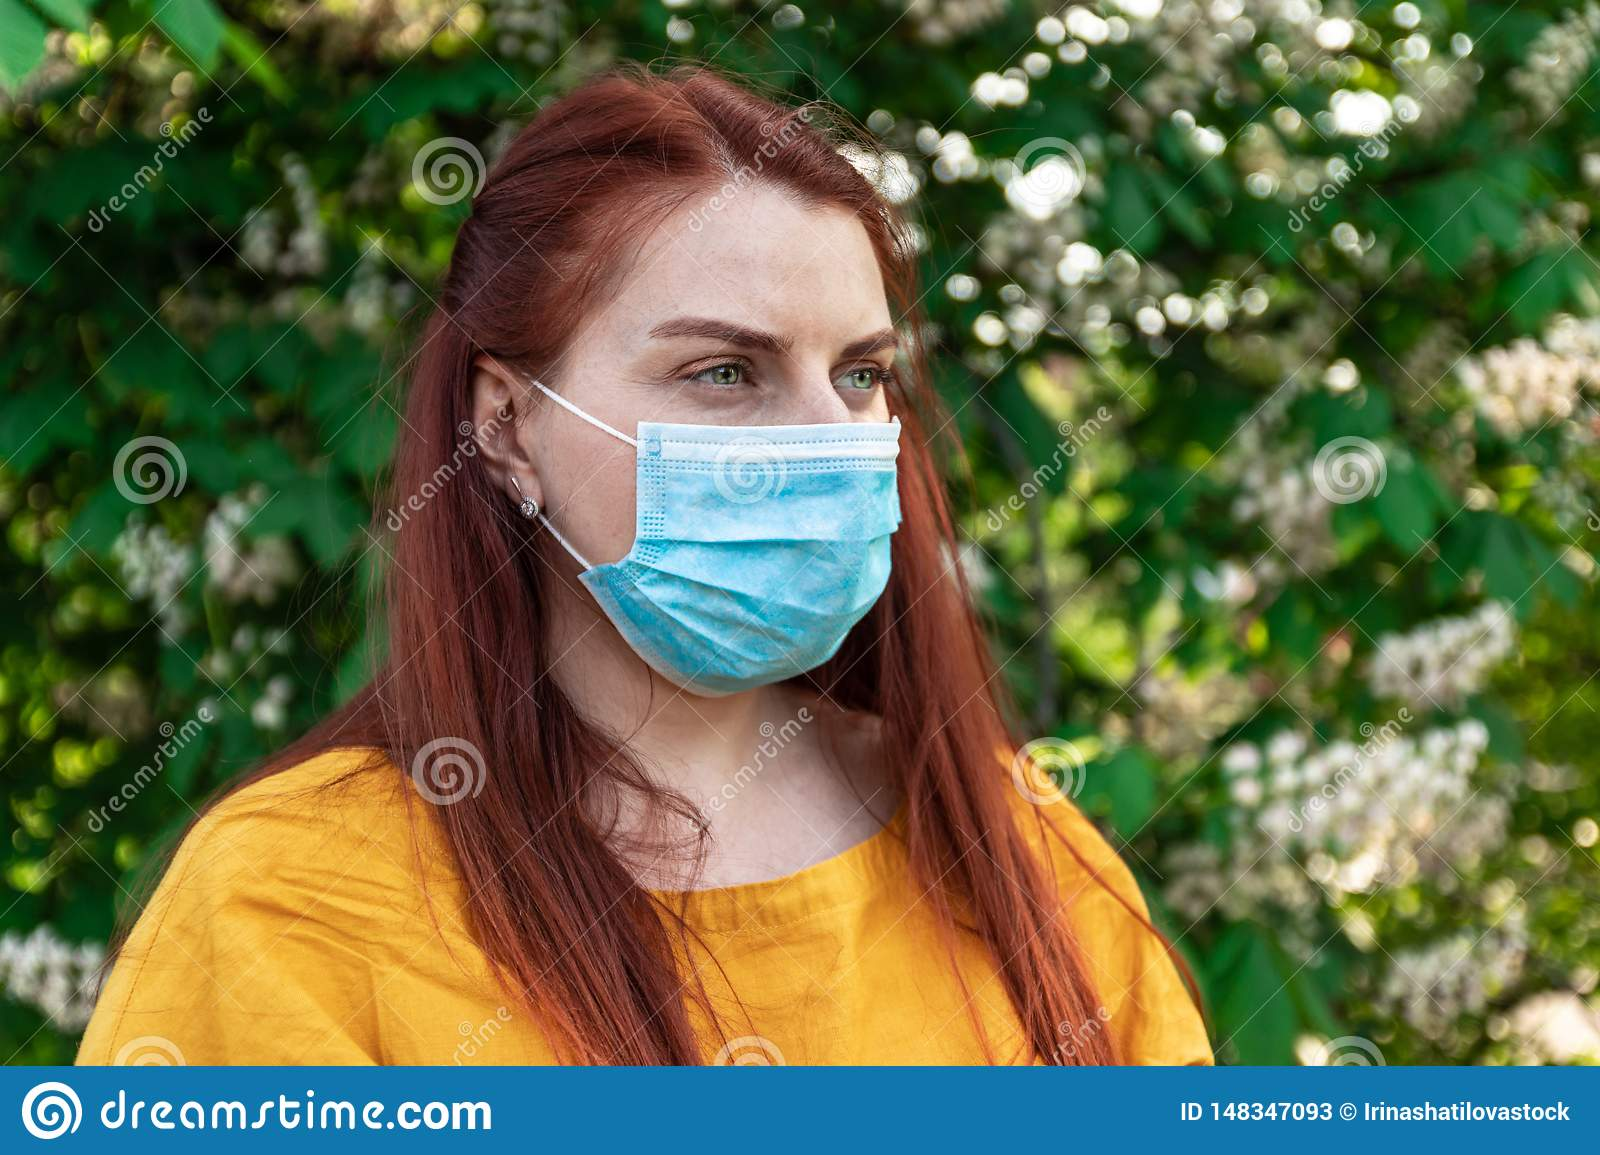mask: (607, 390, 891, 656)
